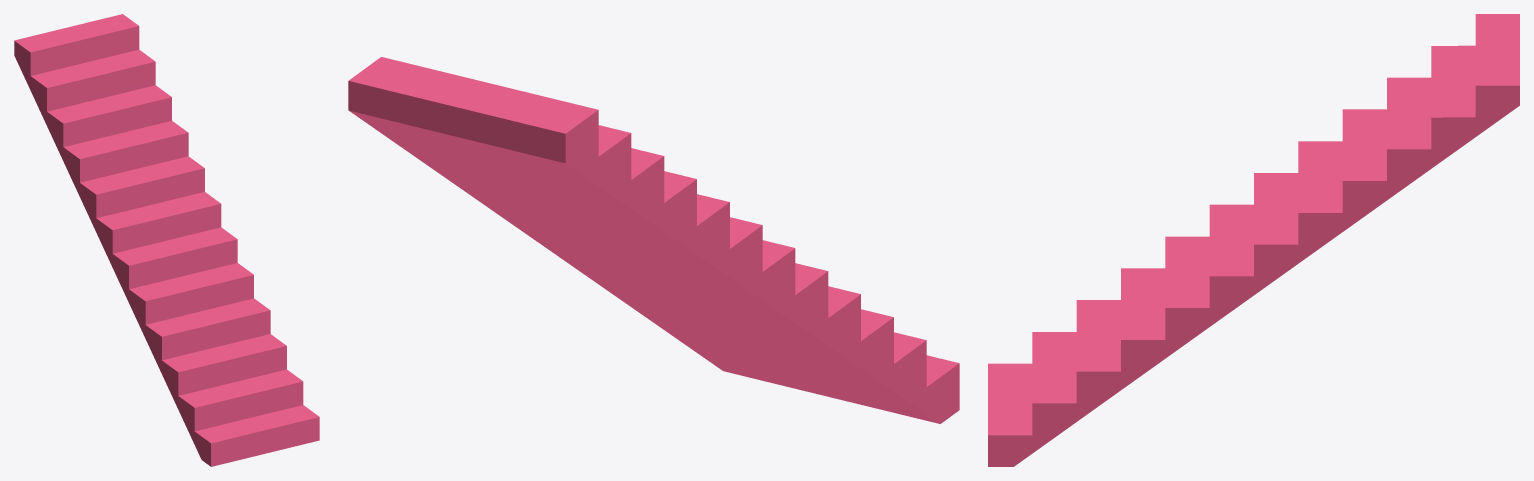
File: Stairs_090.glb
3 views of the same model, side by side, from view 1: azimuth 30°, elevation 25°; view 2: azimuth 150°, elevation 25°; view 3: azimuth 270°, elevation 25° (orthographic). The views are drawn at different scales.
Parts seen in each view (by area): view 1: Stairs_090; view 2: Stairs_090; view 3: Stairs_090.
Part boxes in pixels (x1=…): Stairs_090: x1=14, y1=14, x2=319, y2=466; Stairs_090: x1=348, y1=57, x2=959, y2=423; Stairs_090: x1=988, y1=14, x2=1519, y2=466.
Bounding box in the file's own units: 1.62 × 4.02 × 5.08.
1 material, 1 textured.
